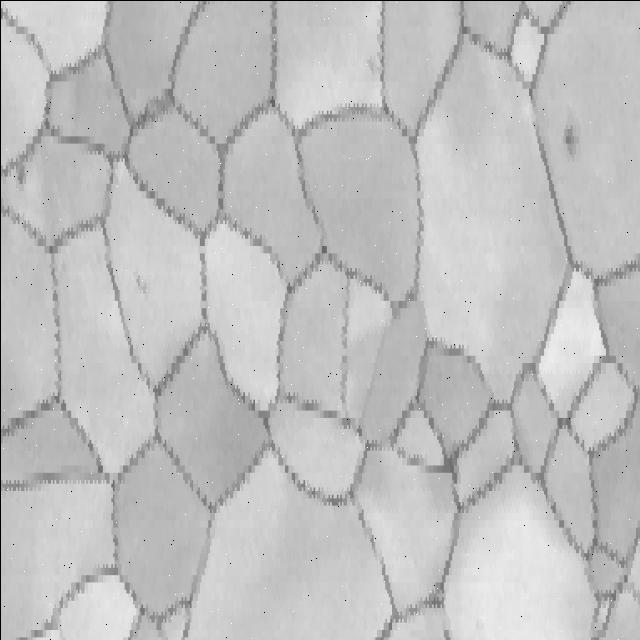good_void: (128, 259, 160, 319), (559, 105, 580, 150), (12, 160, 27, 193)
